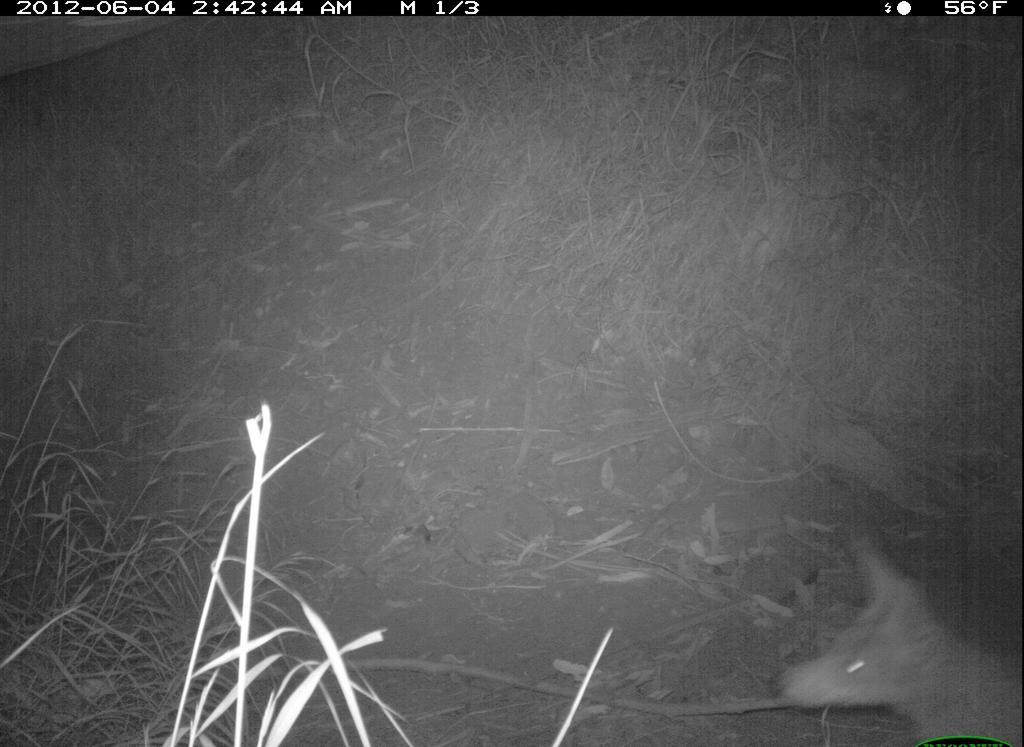coyote: (774, 529, 1021, 743)
